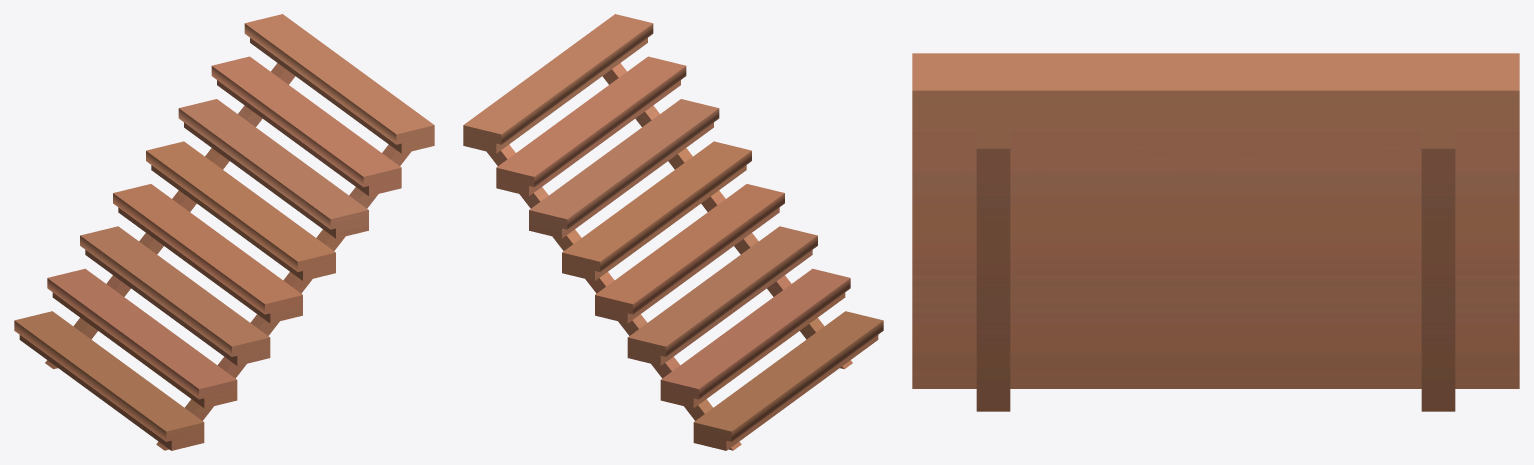
Rendered from stairs-wide-wood.glb.
3 renders of one model, left to right at view 1: azimuth 30°, elevation 25°; view 2: azimuth 150°, elevation 25°; view 3: azimuth 270°, elevation 25°, orthographic. The views are drawn at different scales.
Parts seen in each view (by area): view 1: stairs-wide-wood; view 2: stairs-wide-wood; view 3: stairs-wide-wood.
Boxes of the visible parts, x1,y1,x2,y2 form: stairs-wide-wood: (14,14,434,450); stairs-wide-wood: (463,14,883,450); stairs-wide-wood: (912,53,1519,411).
Bounding box in the file's own units: 1.02 × 1 × 1.
1 material, 1 textured.
